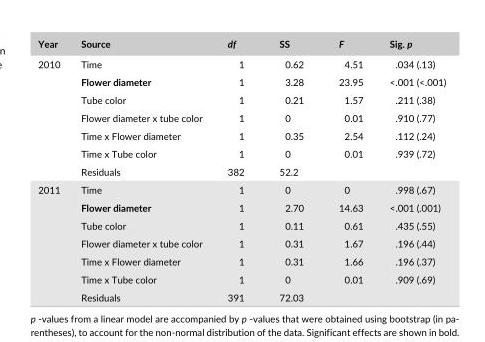table: (37, 37, 445, 302)
table column: (69, 37, 214, 302), (375, 37, 445, 302), (261, 37, 320, 302), (320, 37, 375, 302), (214, 37, 261, 302), (37, 37, 69, 302)
table column header: (37, 37, 445, 53)
table row: (37, 53, 445, 72), (37, 72, 445, 90), (37, 90, 445, 108), (37, 108, 445, 126), (37, 126, 445, 144), (37, 144, 445, 162), (37, 162, 445, 180), (37, 180, 445, 198), (37, 215, 445, 233), (37, 233, 445, 251), (37, 251, 445, 269), (37, 269, 445, 287), (37, 198, 445, 215), (37, 37, 445, 53), (37, 287, 445, 302)
table spanning cell: (37, 53, 69, 180), (37, 180, 69, 302)
